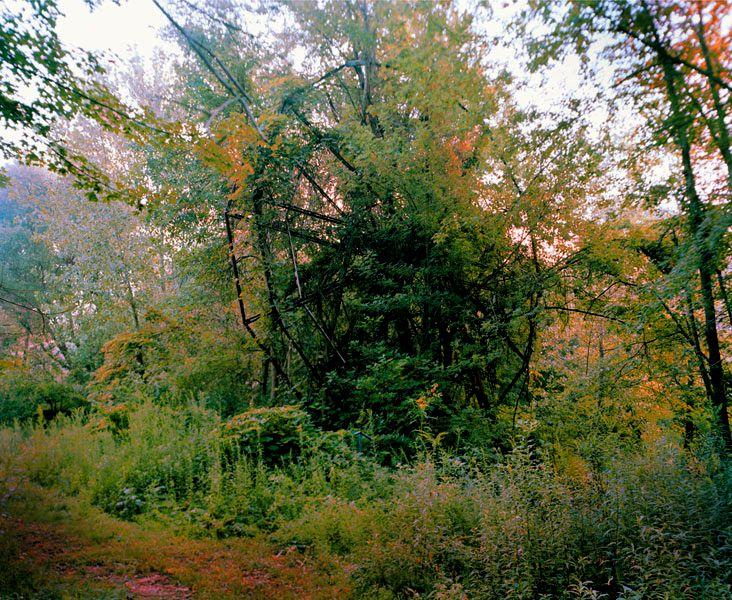overgrown grass: (52, 411, 731, 597)
